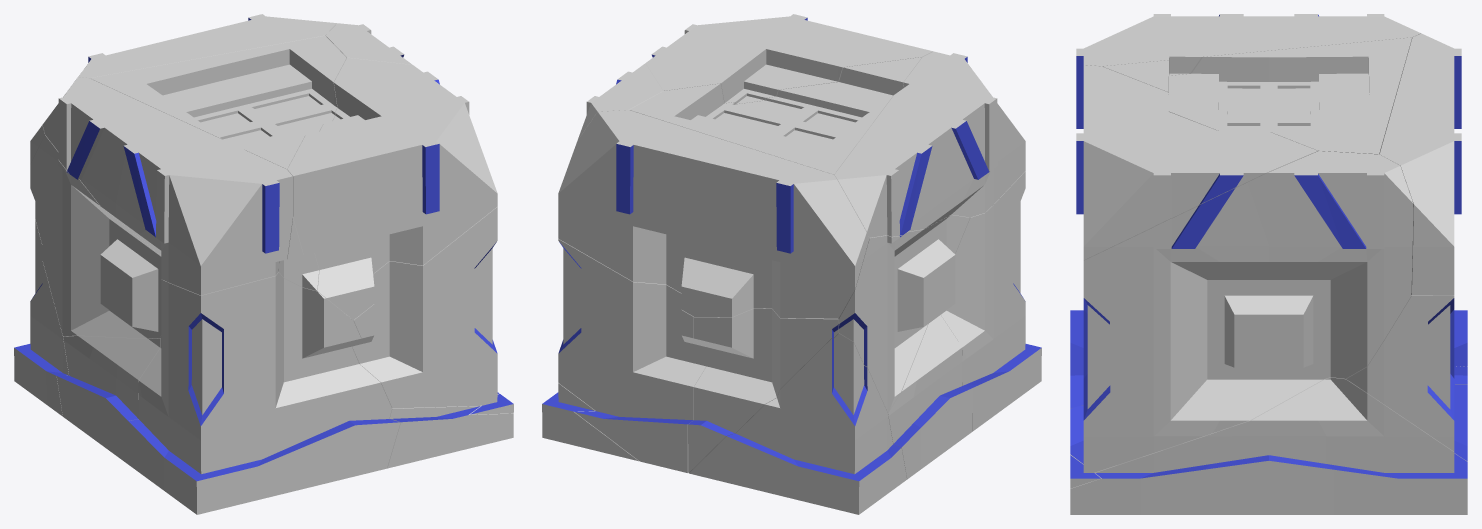
Rendered from Crate_Destroyed.fbx.
3 views of the same model, side by side, from view 1: azimuth 30°, elevation 25°; view 2: azimuth 150°, elevation 25°; view 3: azimuth 270°, elevation 25° (orthographic). The views are drawn at different scales.
Parts seen in each view (by area): view 1: crate_low_cell.011, crate_low_cell.008, crate_low_cell.001, crate_low_cell, crate_low_cell.003, crate_low_cell.005, crate_low_cell.006, crate_low_cell.004, crate_low_cell.009, crate_low_cell.007; view 2: crate_low_cell.004, crate_low_cell.001, crate_low_cell.002, crate_low_cell.007, crate_low_cell.003, crate_low_cell.008, crate_low_cell.011, crate_low_cell.005, crate_low_cell.010, crate_low_cell.006, crate_low_cell.009, crate_low_cell; view 3: crate_low_cell, crate_low_cell.009, crate_low_cell.008, crate_low_cell.003, crate_low_cell.004, crate_low_cell.001, crate_low_cell.002, crate_low_cell.011, crate_low_cell.007.
Boxes of the visible parts, x1,y1,x2,y2 form: crate_low_cell.011: (128, 272, 400, 514); crate_low_cell.008: (287, 57, 497, 319); crate_low_cell.001: (42, 77, 292, 295); crate_low_cell: (325, 23, 513, 414); crate_low_cell.003: (90, 35, 346, 292); crate_low_cell.005: (30, 135, 161, 338); crate_low_cell.006: (56, 336, 160, 464); crate_low_cell.004: (30, 14, 336, 164); crate_low_cell.009: (387, 392, 513, 468); crate_low_cell.007: (14, 220, 68, 416); crate_low_cell.004: (558, 110, 869, 318); crate_low_cell.001: (834, 51, 1025, 237); crate_low_cell.002: (558, 239, 706, 472); crate_low_cell.007: (689, 334, 906, 514); crate_low_cell.003: (629, 57, 922, 175); crate_low_cell.008: (646, 14, 932, 104); crate_low_cell.011: (940, 171, 1041, 431); crate_low_cell.005: (838, 214, 969, 412); crate_low_cell.010: (688, 308, 838, 472); crate_low_cell.006: (888, 314, 972, 479); crate_low_cell.009: (542, 383, 638, 461); crate_low_cell: (577, 63, 663, 140); crate_low_cell: (1070, 151, 1413, 488); crate_low_cell.009: (1070, 377, 1467, 514); crate_low_cell.008: (1076, 65, 1317, 260); crate_low_cell.003: (1102, 37, 1411, 154); crate_low_cell.004: (1379, 33, 1461, 295); crate_low_cell.001: (1076, 14, 1420, 128); crate_low_cell.002: (1346, 295, 1467, 461); crate_low_cell.011: (1070, 310, 1083, 408); crate_low_cell.007: (1454, 310, 1467, 366).
Bounding box in the file's own units: 215 × 200 × 214.
